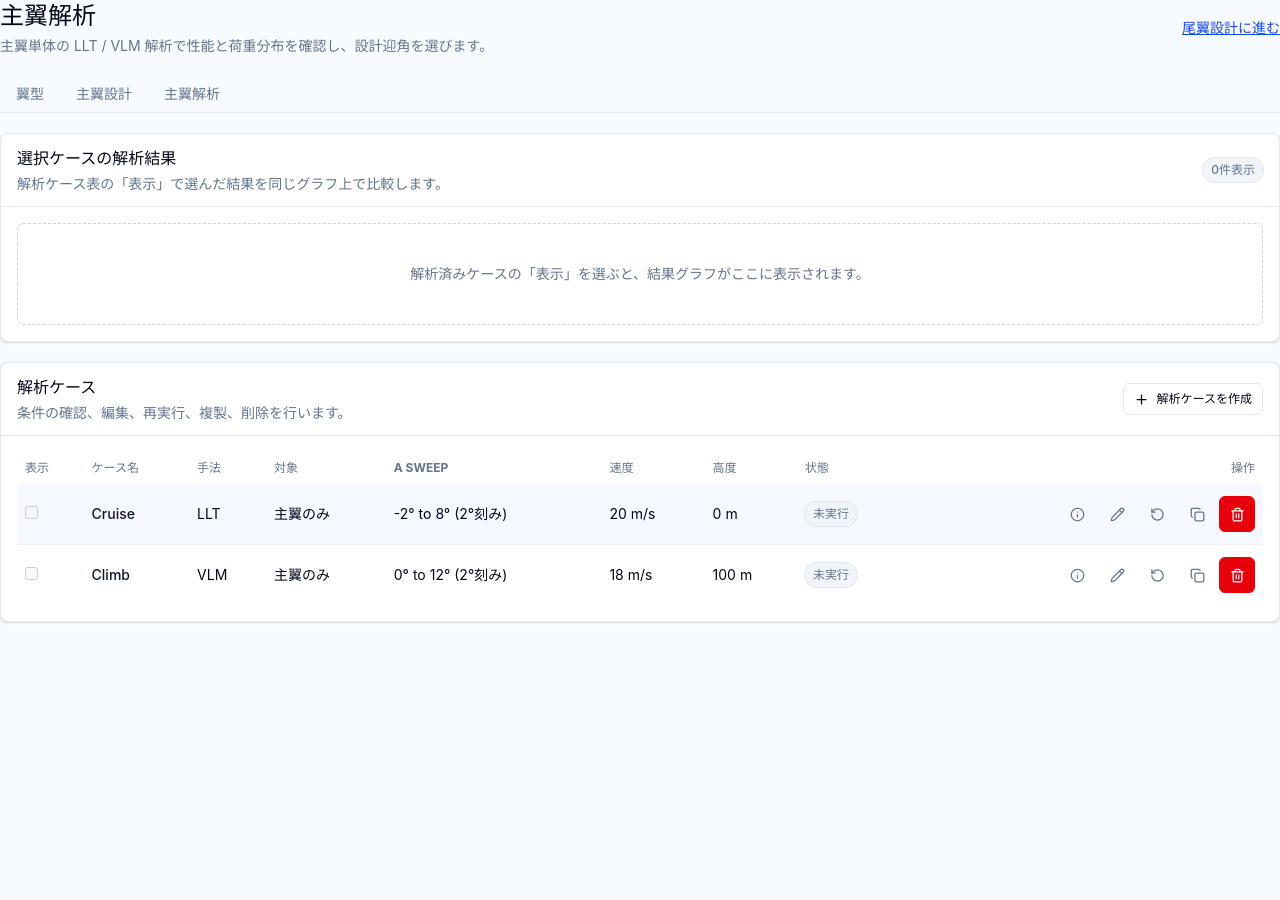
Test: AnalysisPage › presents aerodynamic analysis cases in the standard management layout
expect the heading "主翼解析" is shown: met, box 0,1 -> 96,30
expect the heading "解析ケース" is shown: met, box 17,377 -> 96,397
Click the button named "Climbを詳細表示": (1077, 575) 1059,557 -> 1095,593
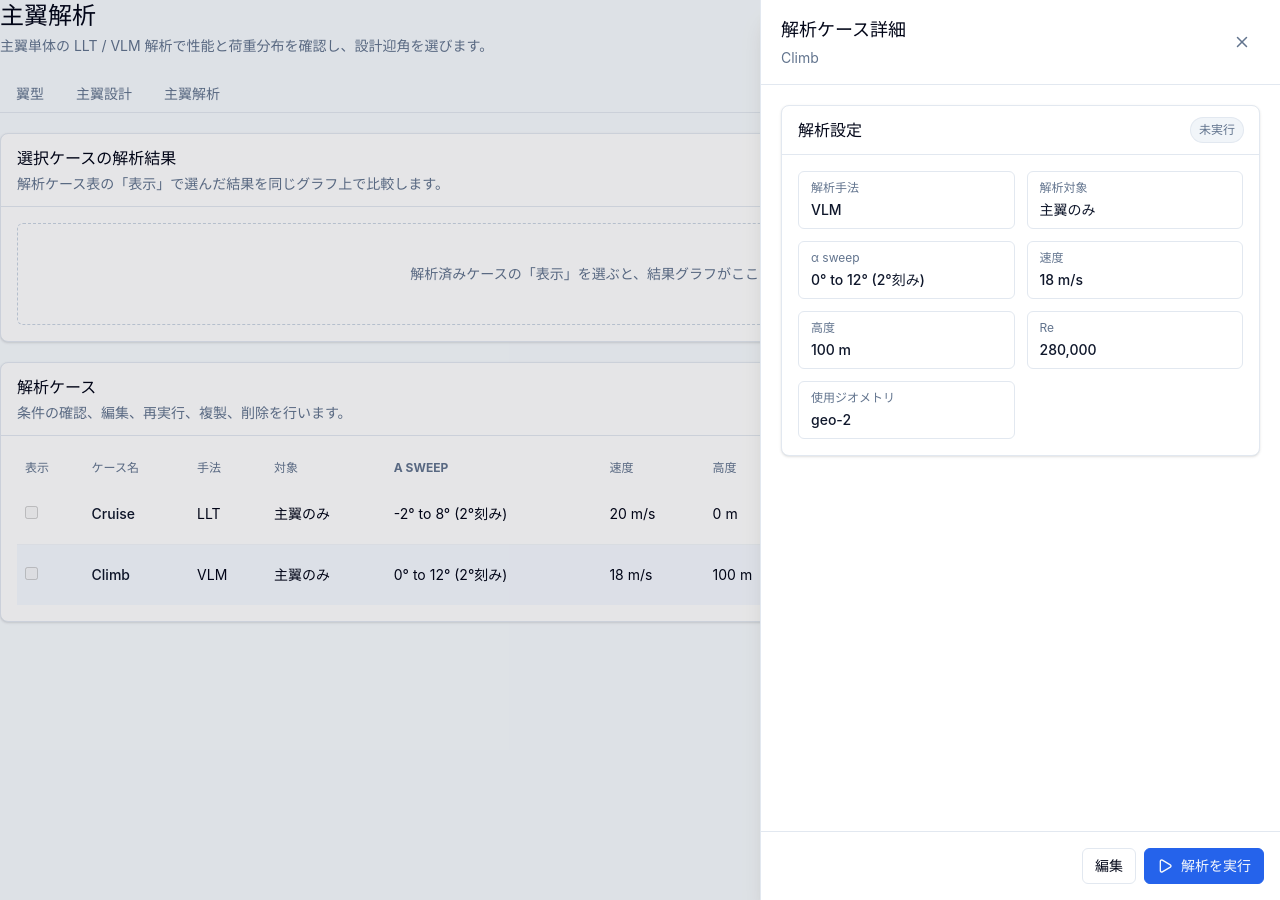
expect the dialog "解析ケース詳細" shows "geo-2": met, box 811,411 -> 851,428
expect the button with aria-label "Climbを解析" is shown: met, box 1144,848 -> 1264,884
